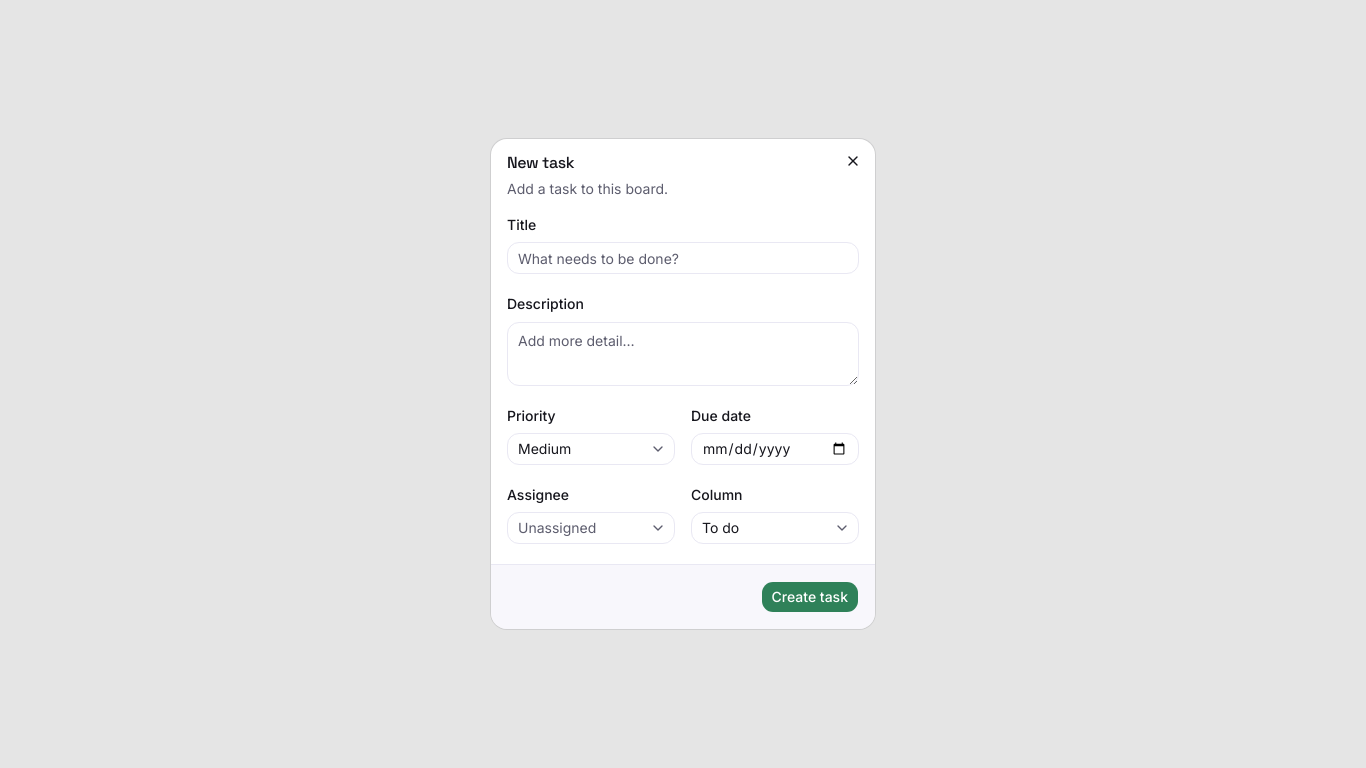
Test case: TaskDialog › will not save without a title, and says why
The width and height of the screenshot is (1366, 768).
Click the button "Create task": (810, 597) x1=760 y1=581 x2=859 y2=613
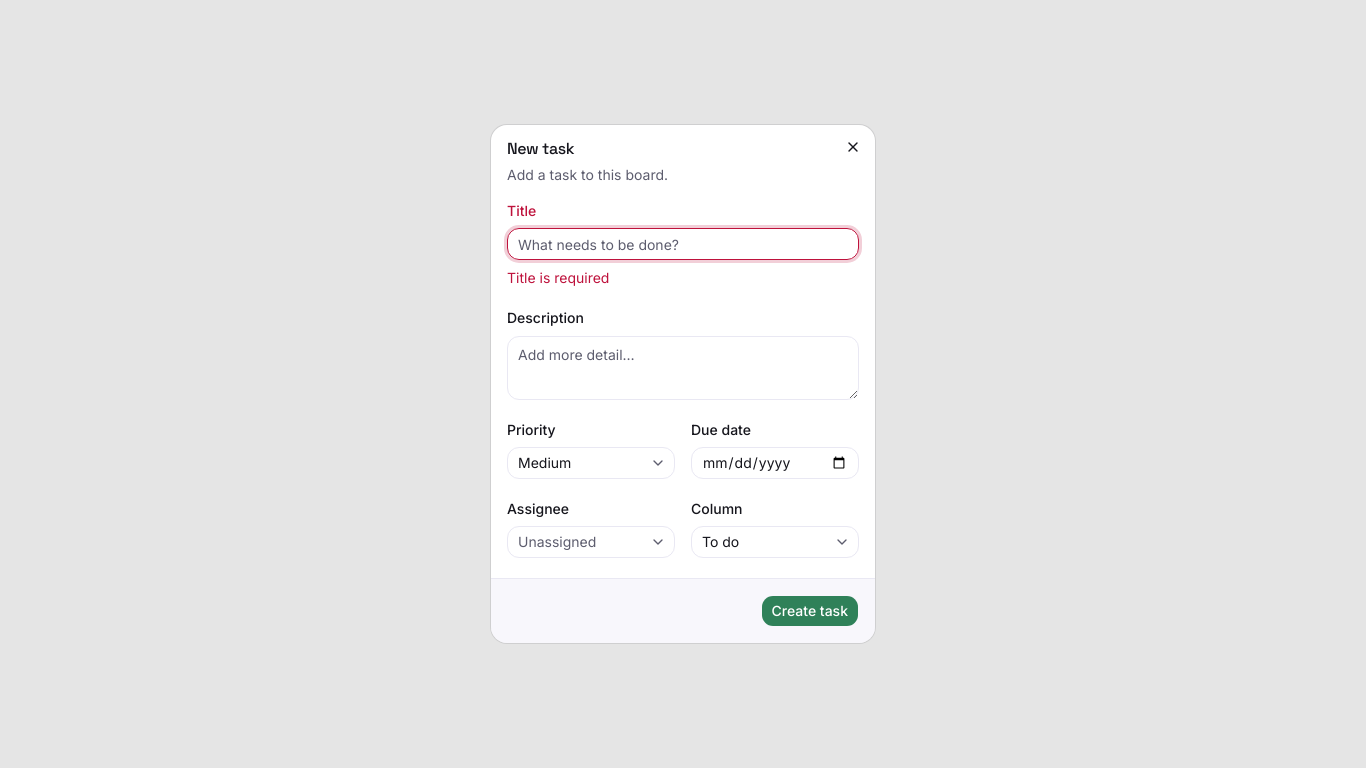
Check: the message reads "Title is required", box x1=507 y1=269 x2=609 y2=286
